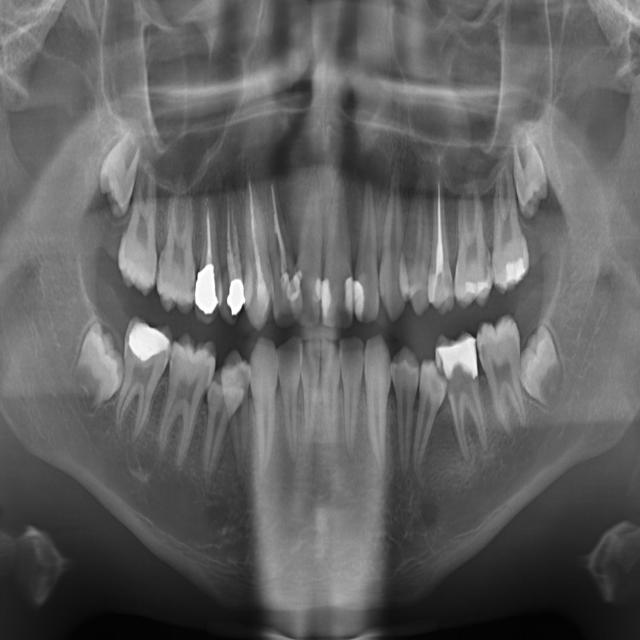AmalgamRestoration: (197, 264, 216, 315), (227, 277, 246, 314)
CompositeResinRestoration: (130, 315, 170, 361), (437, 339, 479, 375), (502, 254, 527, 290), (458, 278, 490, 305), (431, 285, 455, 314), (286, 270, 302, 310), (341, 280, 357, 315), (321, 277, 334, 318), (259, 284, 273, 318), (354, 284, 366, 319), (312, 272, 322, 312)
DentalCaries: (480, 247, 495, 281), (449, 372, 470, 393), (169, 348, 181, 380), (156, 254, 168, 285), (186, 271, 198, 297), (427, 378, 442, 398), (481, 345, 490, 372)
RootCanalTreatment: (268, 163, 291, 277), (430, 179, 450, 281), (246, 174, 264, 276), (224, 185, 240, 282), (201, 184, 218, 266)
